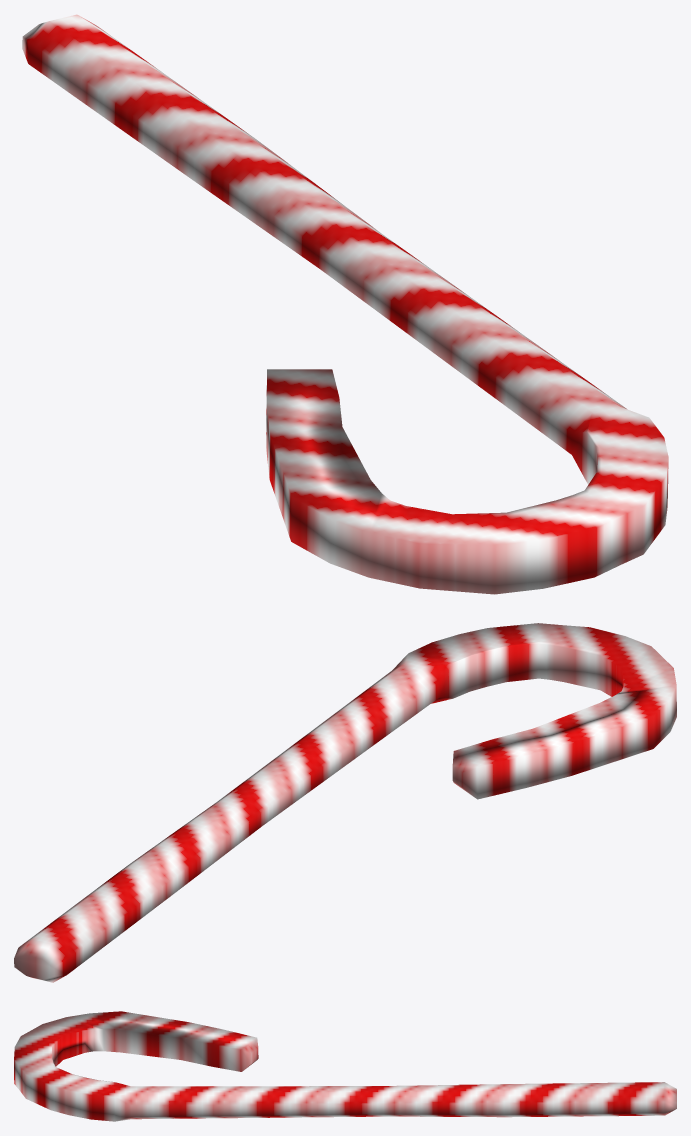
File: WorldItem_GiantCandyCane.fbx
The picture shows the model from 3 angles, top to bottom: view 1: azimuth 30°, elevation 25°; view 2: azimuth 150°, elevation 25°; view 3: azimuth 270°, elevation 25°; orthographic projection. The views are drawn at different scales.
Parts seen in each view (by area): view 1: Cube; view 2: Cube; view 3: Cube.
Part boxes in pixels (x1,y1,x2,y2): Cube: (22, 14, 668, 594); Cube: (14, 623, 676, 982); Cube: (14, 1011, 676, 1121).
Size of the model in its own units: 0.3401 by 0.0515 by 1.09.
